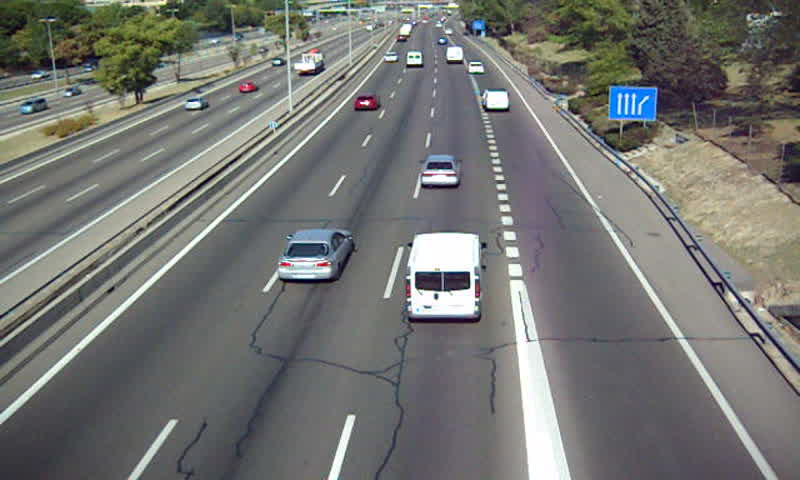car: (276, 228, 352, 284), (420, 154, 461, 188), (354, 94, 380, 110), (468, 60, 486, 75)
van: (404, 233, 482, 322), (481, 88, 509, 112), (405, 50, 423, 68), (446, 46, 464, 63)
